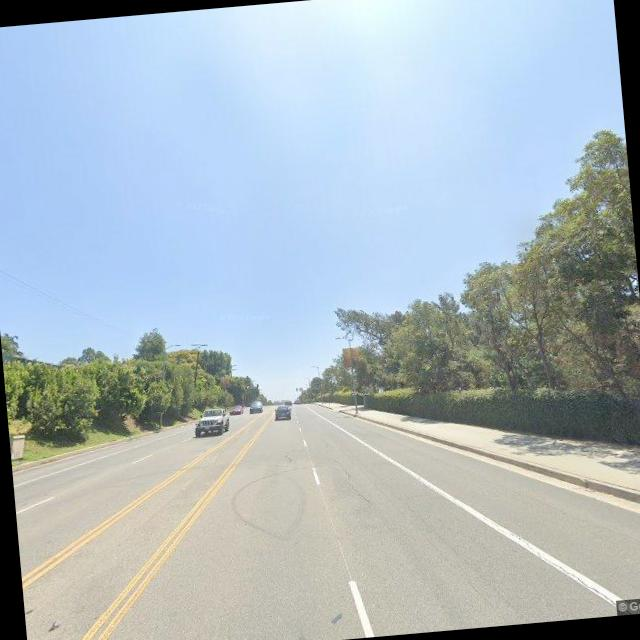crack: (335, 453, 376, 511)
